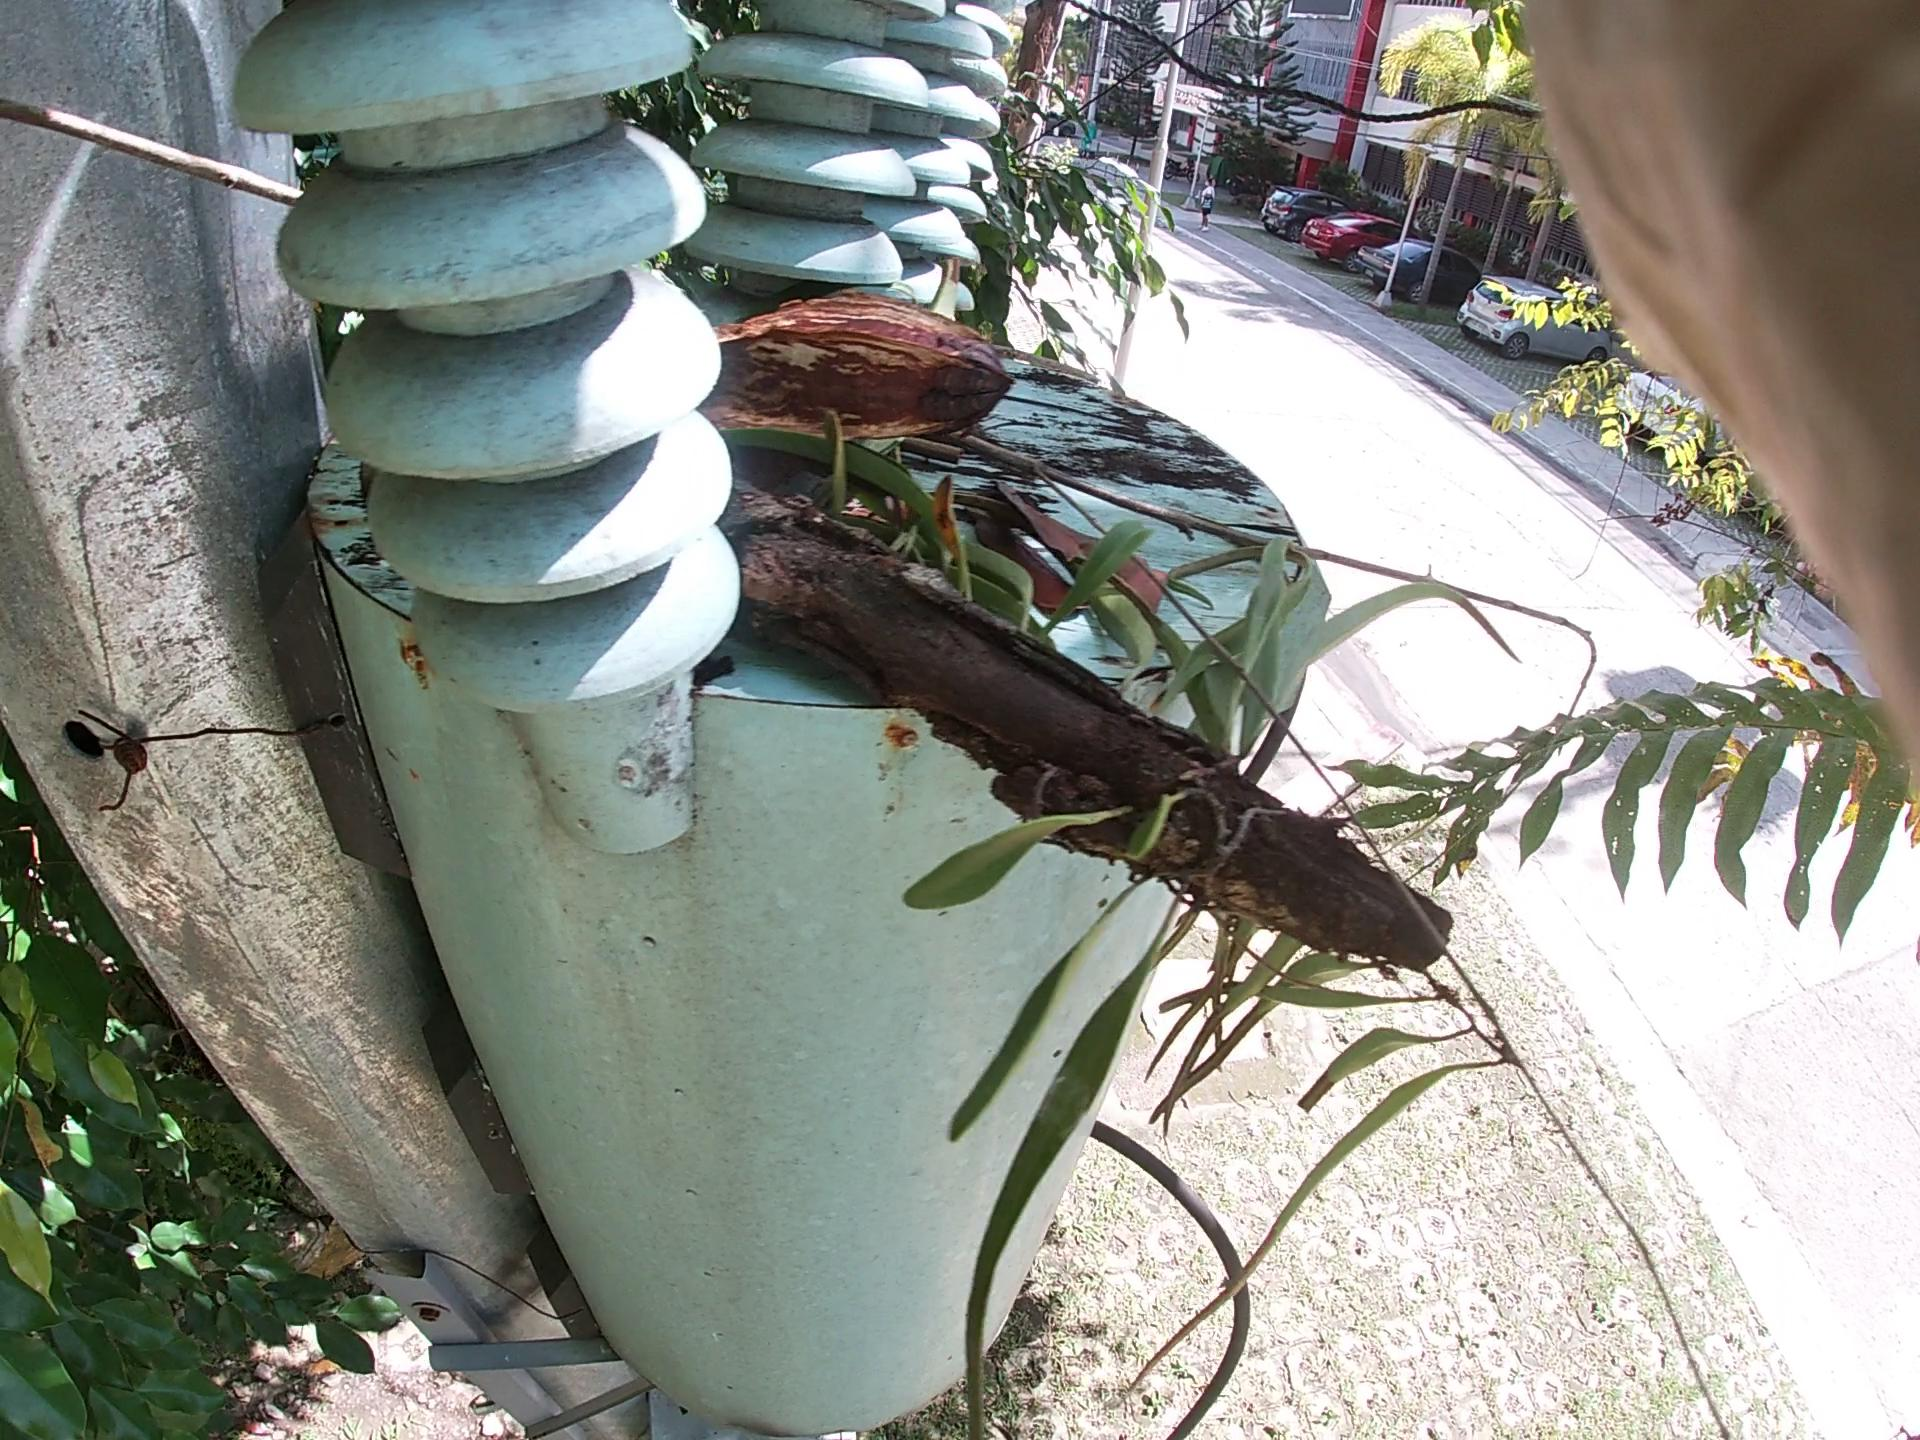branch with leaves: (688, 446, 1512, 1006)
leaf: (887, 422, 1172, 646)
mahogany fruit: (608, 251, 1033, 510)
tree branch: (94, 119, 1562, 782), (957, 303, 1312, 489)
